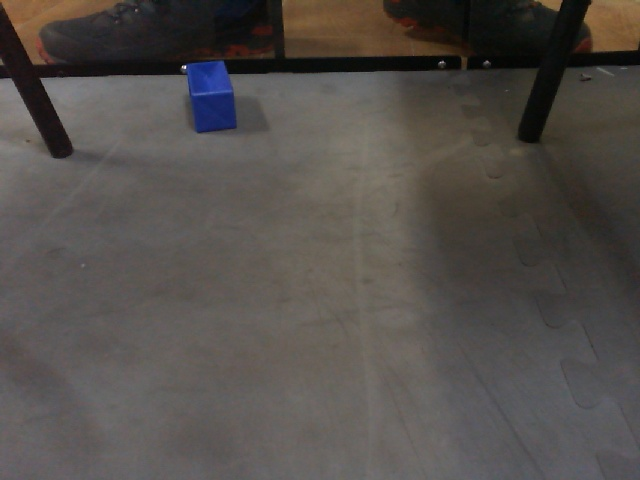BlueSample: (178, 58, 241, 137)
